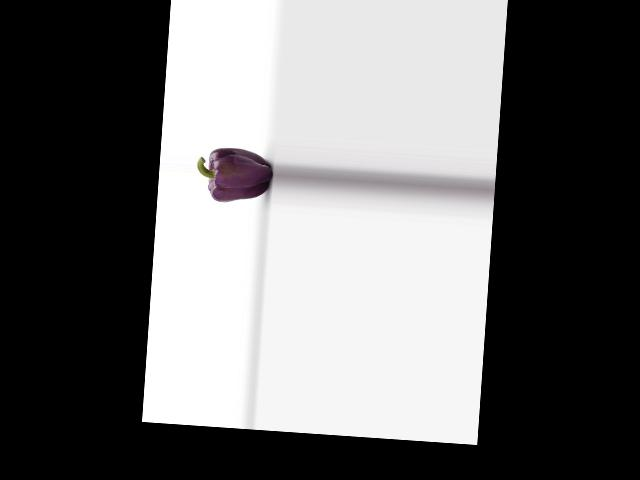bell_pepper: (195, 139, 272, 209)
